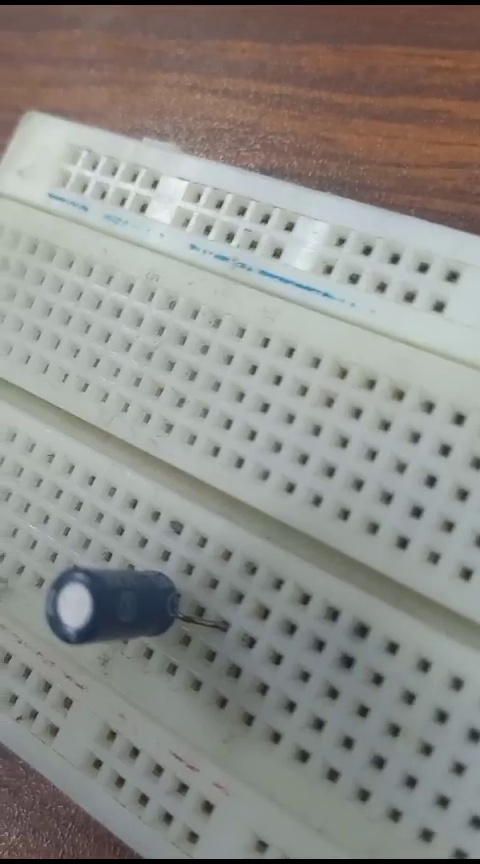capacitor: (37, 555, 205, 652)
